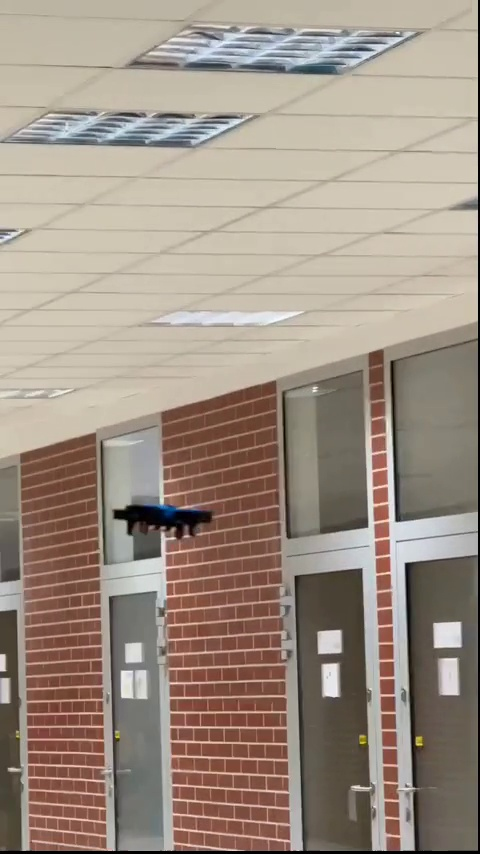drone: (114, 498, 213, 540)
